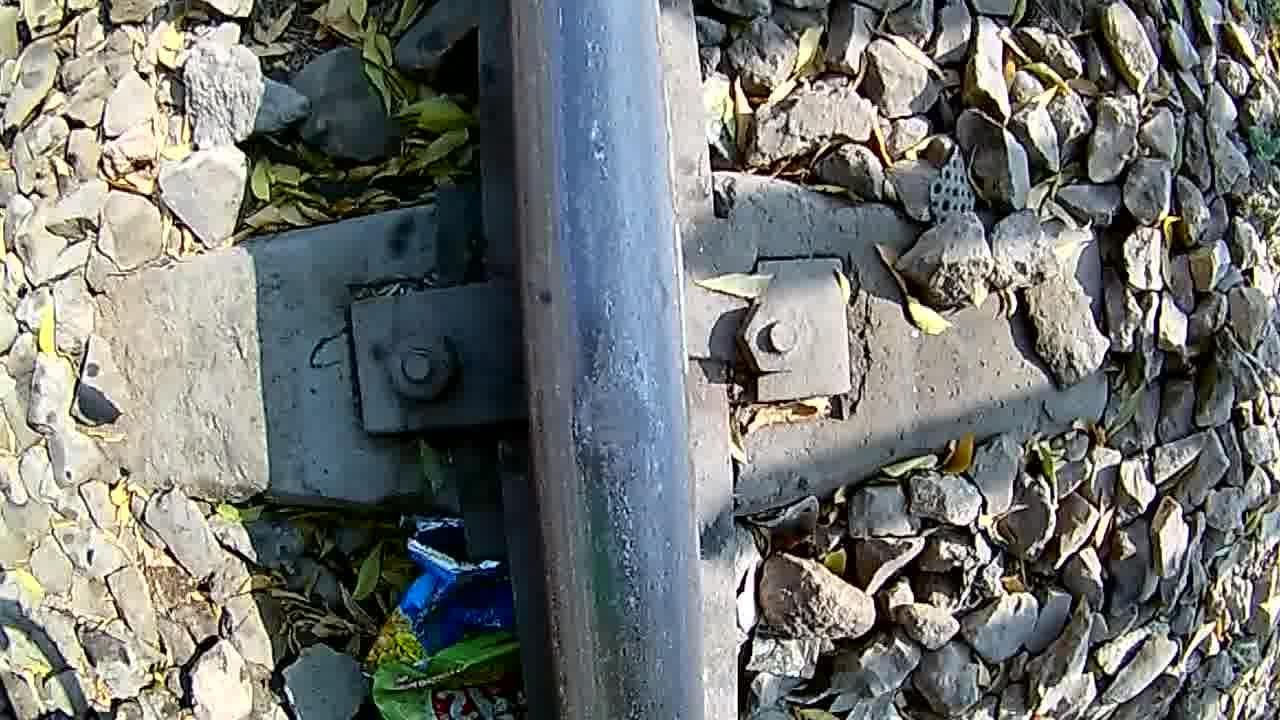crack: (512, 234, 690, 566)
